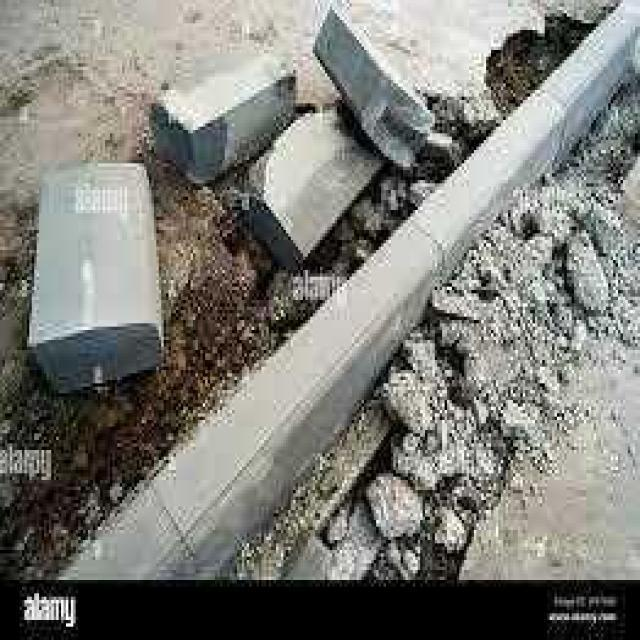curb: (40, 6, 640, 592)
